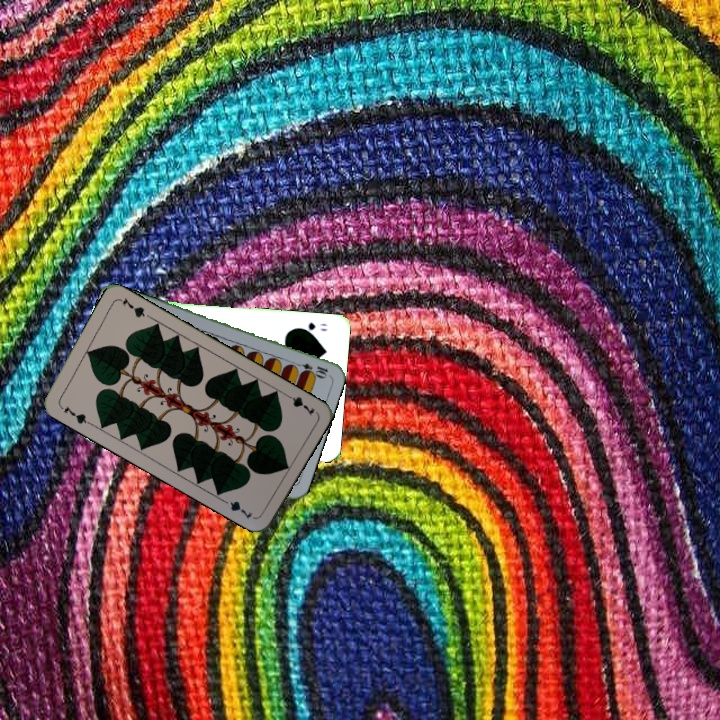E10: (290, 358, 330, 379)
G7: (280, 389, 317, 418), (56, 401, 93, 427)
GO: (293, 318, 330, 335)
